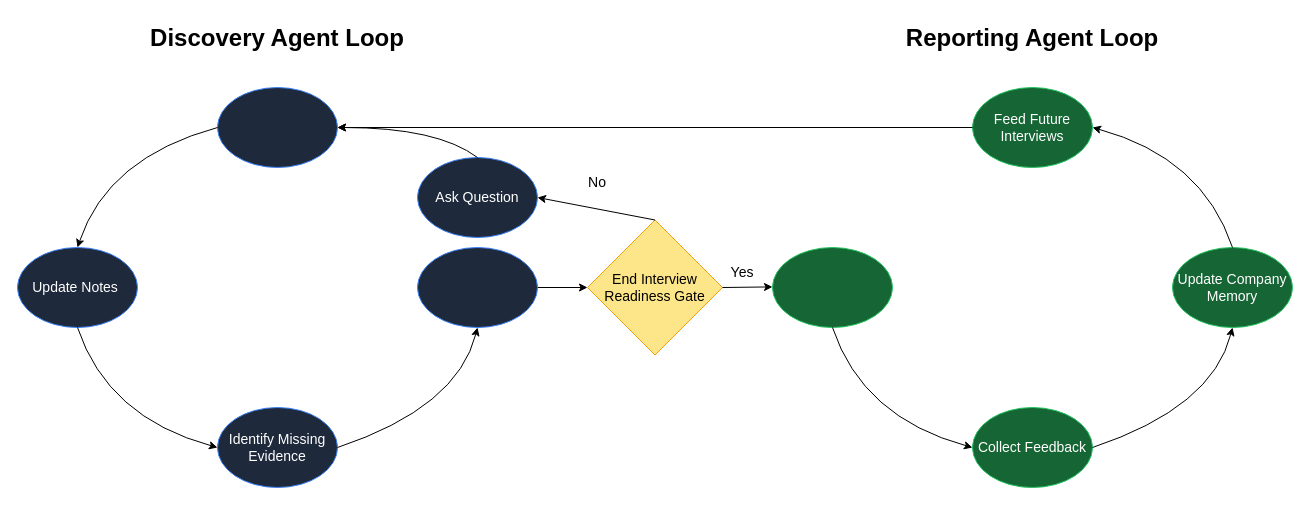
Image size: 1310x505. Some labels were removed from this diagram. Here are the shapes that lost their labels. From the top down, the centre of each, then its label:
At point 277,127: "Capture User Input".
At point 477,287: "Plan Next Question".
At point 832,287: "Generate AI Use Cases".
